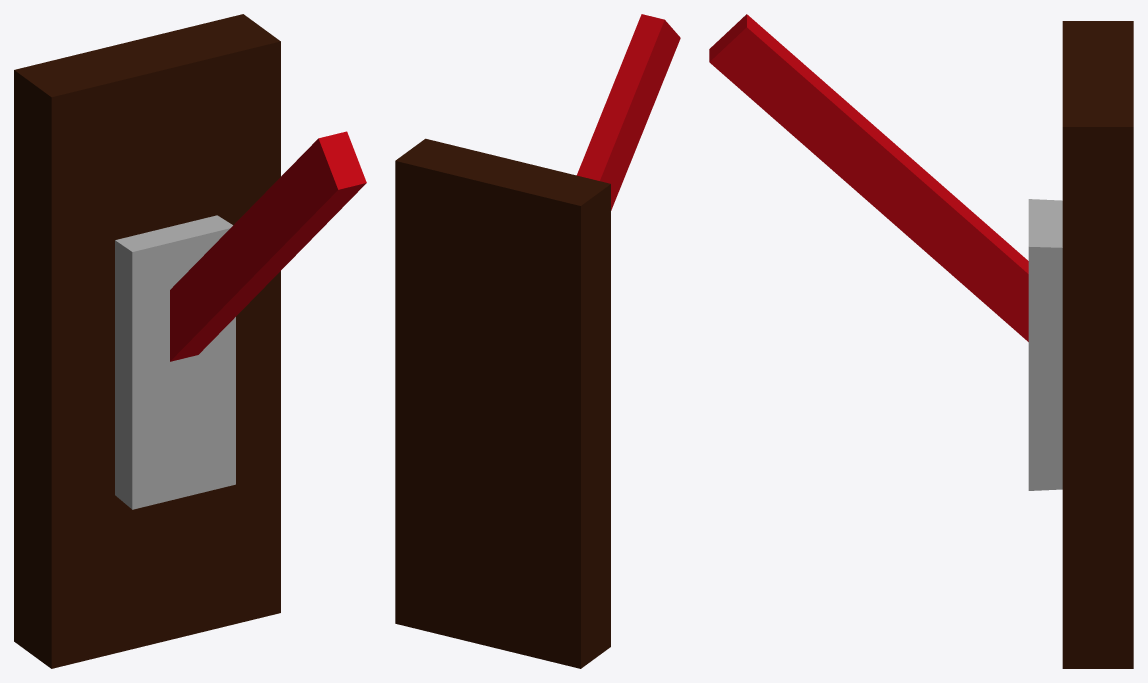
File: wall lever.gltf
3 views of the same model, side by side, from view 1: azimuth 30°, elevation 25°; view 2: azimuth 150°, elevation 25°; view 3: azimuth 270°, elevation 25° (orthographic). The views are drawn at different scales.
Visible parts, largest first — view 1: Cube, Cube.001; view 2: Cube, Cube.001; view 3: Cube, Cube.001.
Boxes of the visible parts, bbox=[...] form: Cube: bbox=[14, 14, 280, 668]; Cube.001: bbox=[170, 131, 366, 361]; Cube: bbox=[395, 138, 610, 668]; Cube.001: bbox=[576, 14, 680, 210]; Cube: bbox=[1028, 21, 1133, 668]; Cube.001: bbox=[709, 14, 1028, 341].
Size of the model in its own units: 0.872 by 2.28 by 1.47.
